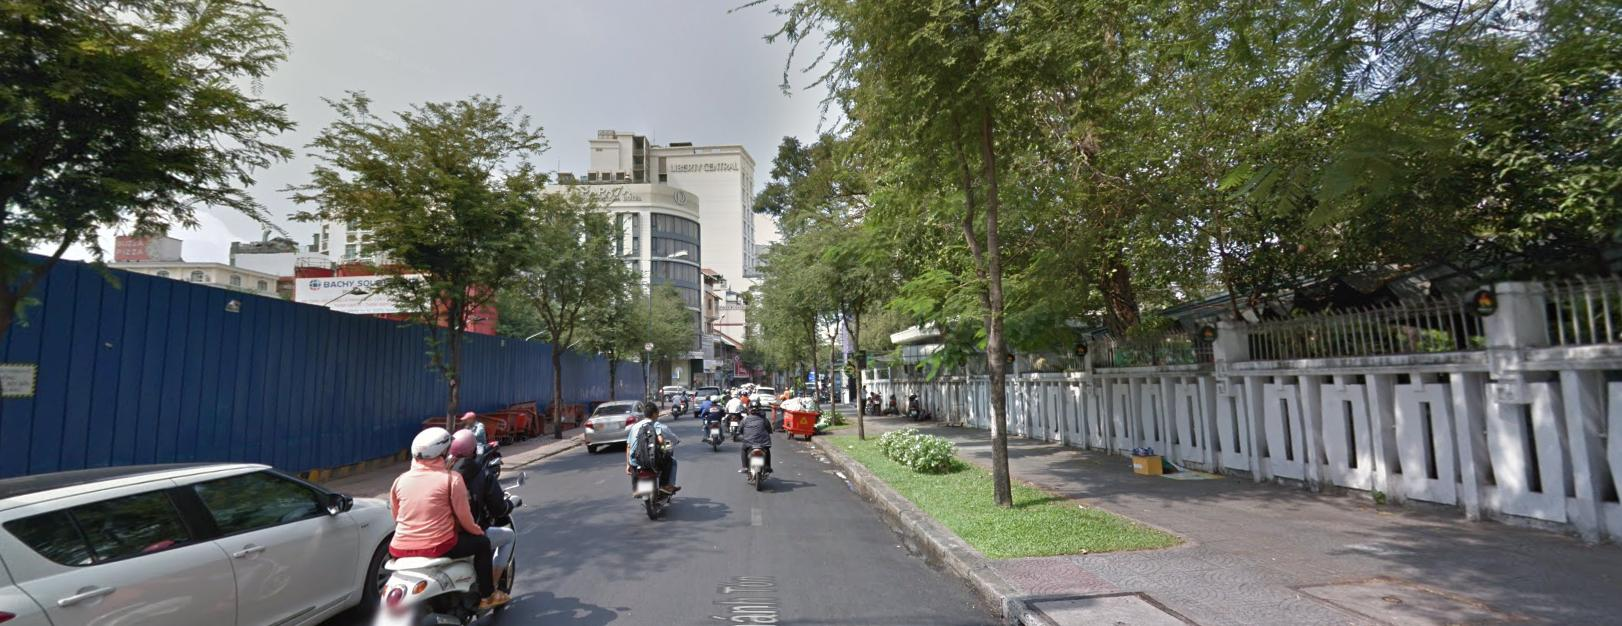Cam dung va do: (733, 352, 740, 360)
